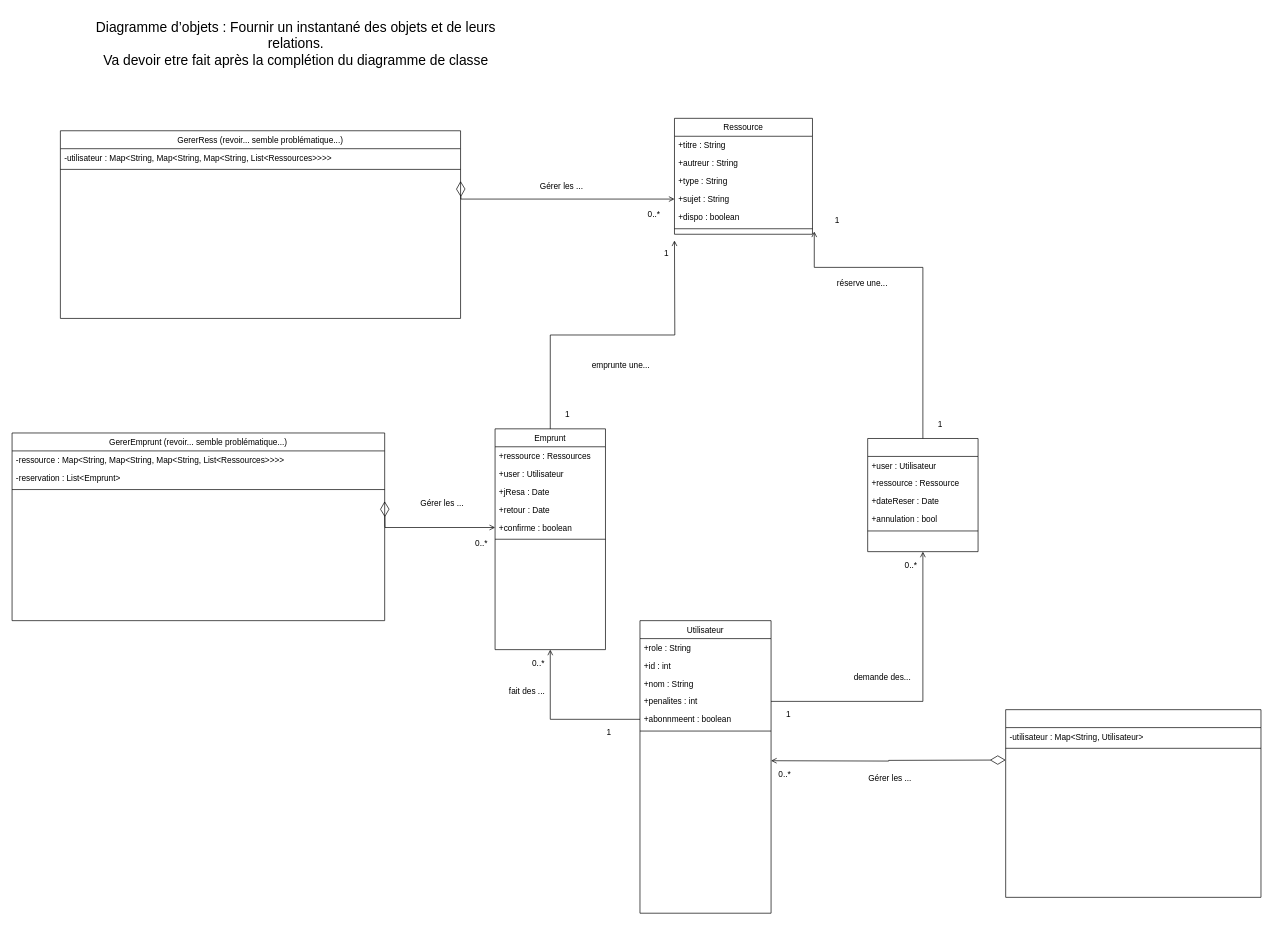
The diagram is 1273 pixels wide and 925 high, and some of its shapes have lost their labels. Here are the shapes that lost their labels. From the top down, the box of each, then its label:
(867, 438, 978, 552): Reservation
(1005, 709, 1261, 897): GestionUser
